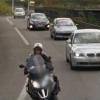Motorcycle: (11, 42, 64, 100)
